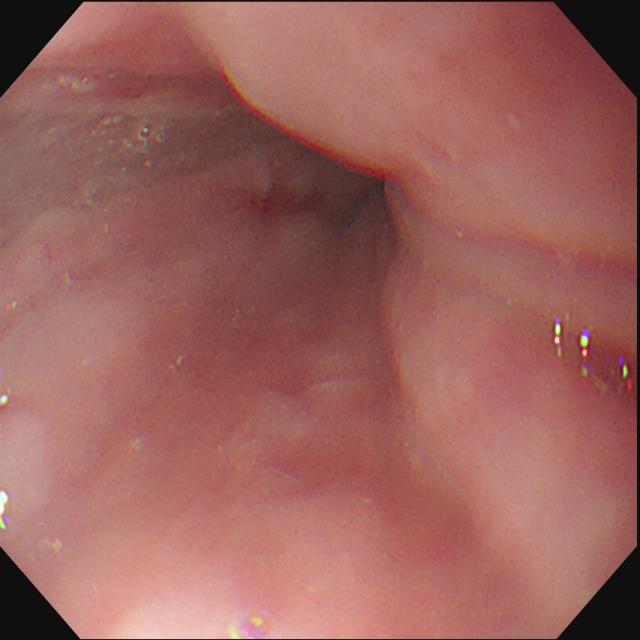D: (238, 165, 328, 224)
T: (85, 110, 209, 199)
U: (577, 330, 593, 381), (619, 358, 634, 398), (554, 320, 567, 364), (2, 488, 12, 535)
